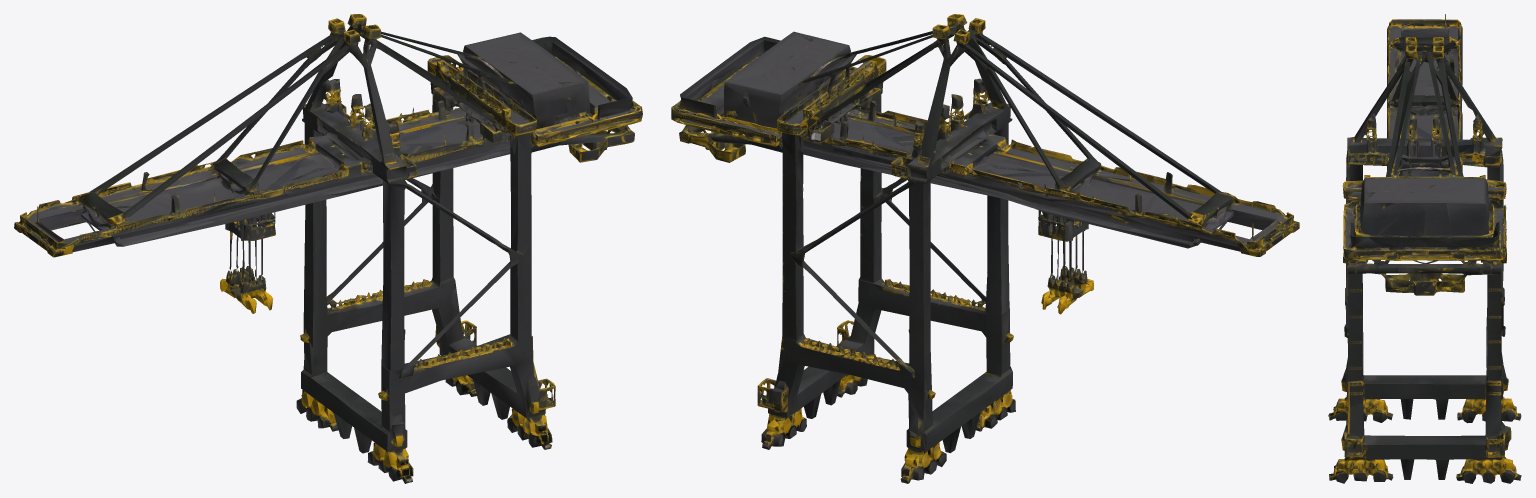
The model's file is port-gantry-crane-meshy6-web-strategic-v1.glb.
3 views of the same model, side by side, from view 1: azimuth 30°, elevation 25°; view 2: azimuth 150°, elevation 25°; view 3: azimuth 270°, elevation 25° (orthographic). The views are drawn at different scales.
Size of the model in its own units: 1.89 by 1.34 by 0.6254.
1 material, 1 textured.
